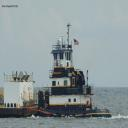tugboat: (38, 35, 113, 121)
